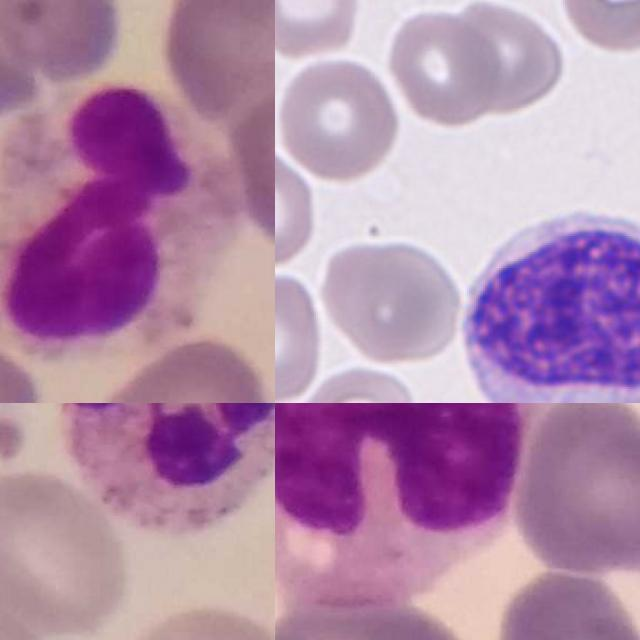Lymphocyte: (453, 197, 640, 403)
Monocyte: (275, 403, 524, 607)
Neutrophil: (0, 83, 243, 365), (60, 403, 275, 532)
RBC: (318, 234, 467, 366), (275, 52, 405, 186), (382, 5, 504, 131), (440, 0, 570, 115), (275, 268, 327, 403), (275, 134, 319, 273), (275, 0, 364, 63), (554, 0, 640, 58), (289, 366, 422, 403)
